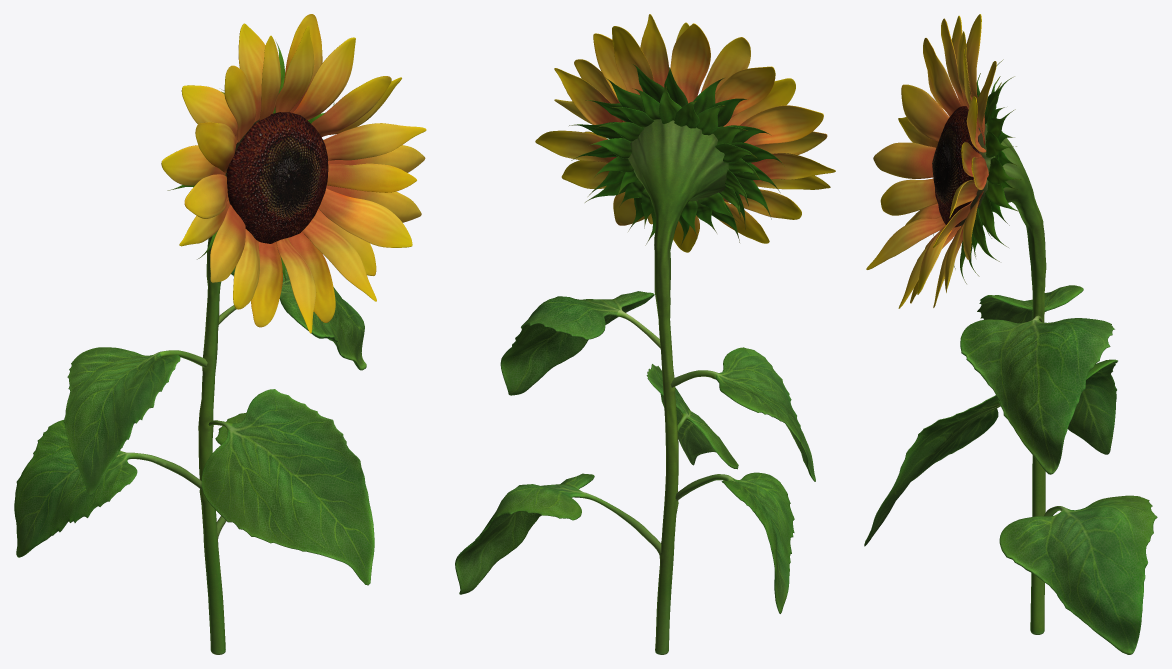
Rendered from Sunflower.glb.
The picture shows the model from 3 angles, left to right: view 1: azimuth 30°, elevation 25°; view 2: azimuth 150°, elevation 25°; view 3: azimuth 270°, elevation 25°; orthographic projection. The views are drawn at different scales.
Parts seen in each view (by area): view 1: sunflower.1_1; view 2: sunflower.1_1; view 3: sunflower.1_1.
Boxes of the visible parts, left/top/right/bottom form: sunflower.1_1: left=14, top=14, right=426, bottom=654; sunflower.1_1: left=455, top=14, right=835, bottom=654; sunflower.1_1: left=864, top=14, right=1157, bottom=654.
Size of the model in its own units: 0.0239 by 0.0444 by 0.0191.
Materials: 1 (1 with a texture image).
